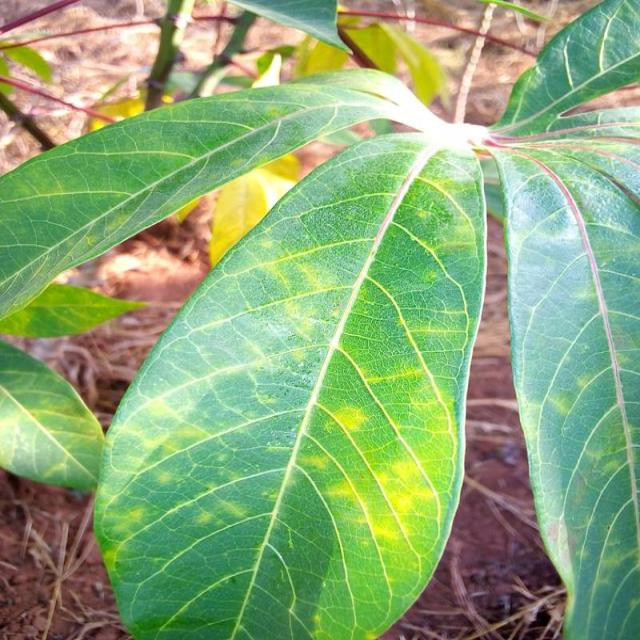cassava leaf: (2, 1, 640, 638), (92, 129, 490, 638), (494, 132, 640, 638)
